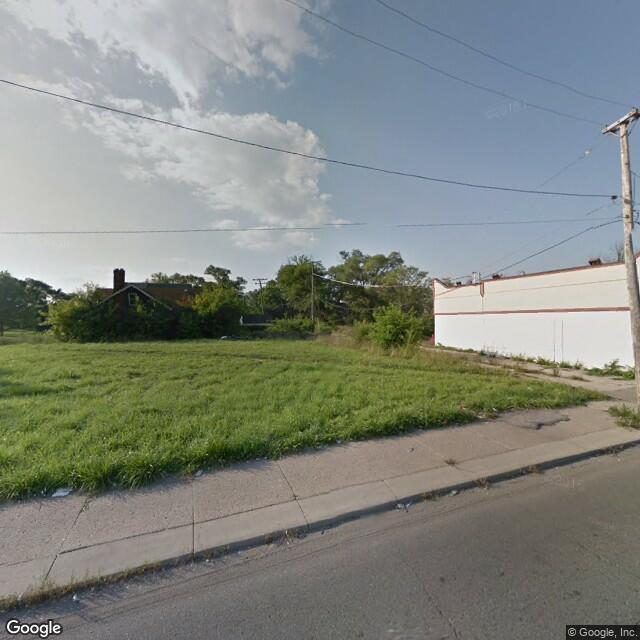litter: (46, 481, 78, 500), (191, 463, 210, 481), (65, 592, 88, 605)
